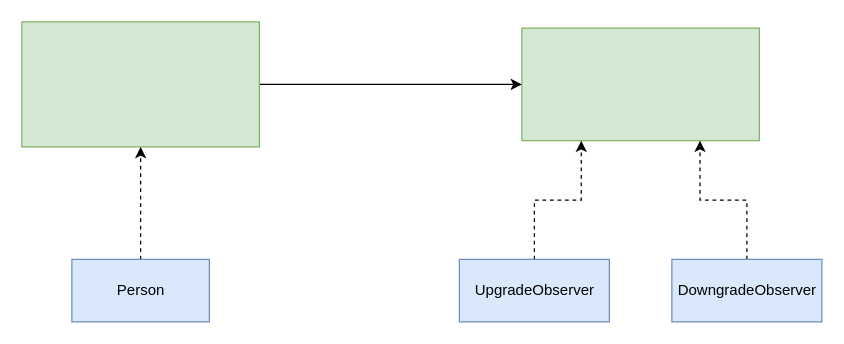
The diagram is 844 pixels wide and 344 high, and some of its shapes have lost their labels. Each missing label, with the centre of its shape:
"<<Interface>> Observer + Update" belongs at [640,84].
"<<Interface>> Subject + Attach + Detach + Notify" belongs at [140,84].
